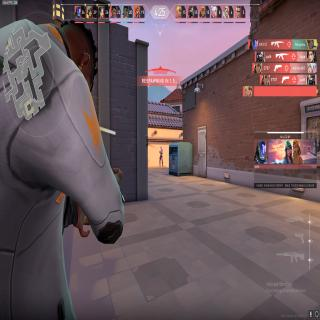ENEMY-BODY: (158, 145, 164, 169)
ENEMY-HEAD: (160, 145, 162, 149)
